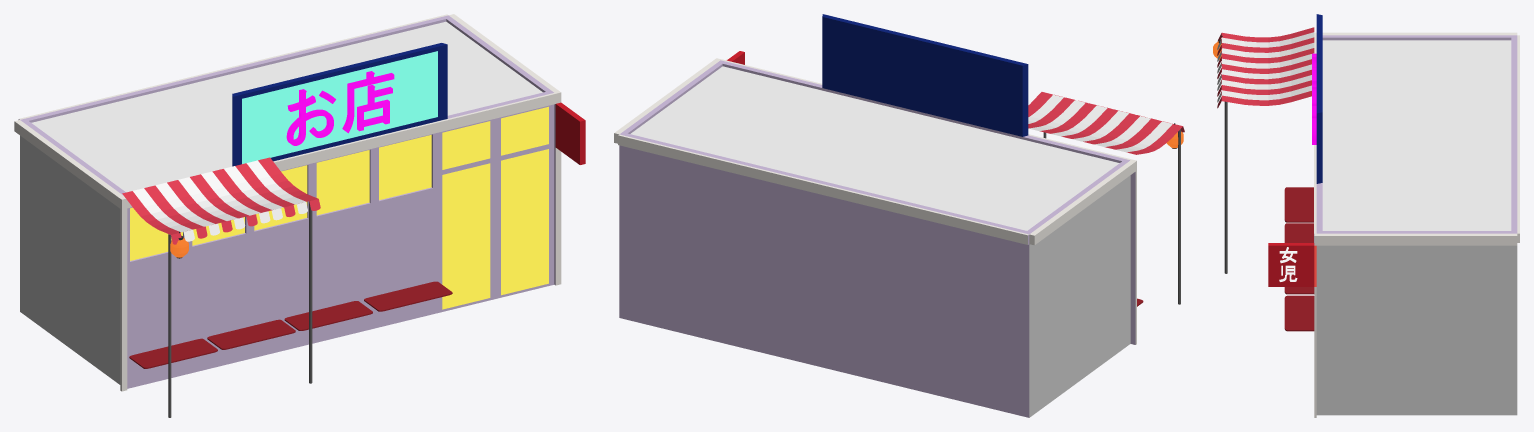
The model's file is japan.glb.
3 renders of one model, left to right at view 1: azimuth 30°, elevation 25°; view 2: azimuth 150°, elevation 25°; view 3: azimuth 270°, elevation 25°, orthographic. The views are drawn at different scales.
Parts seen in each view (by area): view 1: Cube, Cube.023, Text.003, Plane.046, Plane.040, Plane.037, Plane.043, Cylinder.007, Cylinder.008; view 2: Cube, Cube.023, Cylinder.007; view 3: Cube, Cube.023, Plane.046, Plane.037, Cylinder.008, Plane.040, Text.003, Text.002.
Part boxes in pixels (x1=…): Cube: x1=14, y1=14, x2=585, y2=391; Cube.023: x1=122, y1=157, x2=320, y2=244; Text.003: x1=286, y1=71, x2=394, y2=145; Plane.046: x1=364, y1=281, x2=452, y2=311; Plane.040: x1=207, y1=319, x2=295, y2=349; Plane.037: x1=129, y1=338, x2=217, y2=368; Plane.043: x1=284, y1=301, x2=372, y2=330; Cylinder.007: x1=168, y1=234, x2=171, y2=417; Cylinder.008: x1=309, y1=201, x2=312, y2=383; Cube: x1=614, y1=14, x2=1136, y2=417; Cube.023: x1=1028, y1=92, x2=1184, y2=154; Cylinder.007: x1=1178, y1=129, x2=1180, y2=304; Cube: x1=1268, y1=14, x2=1519, y2=417; Cube.023: x1=1217, y1=27, x2=1314, y2=108; Plane.046: x1=1284, y1=295, x2=1314, y2=331; Plane.037: x1=1284, y1=187, x2=1313, y2=222; Cylinder.008: x1=1224, y1=101, x2=1227, y2=273; Plane.040: x1=1284, y1=223, x2=1313, y2=242; Text.003: x1=1312, y1=53, x2=1316, y2=144; Text.002: x1=1279, y1=247, x2=1297, y2=281.
Size of the model in its own units: 4.19 by 2.41 by 2.65.
